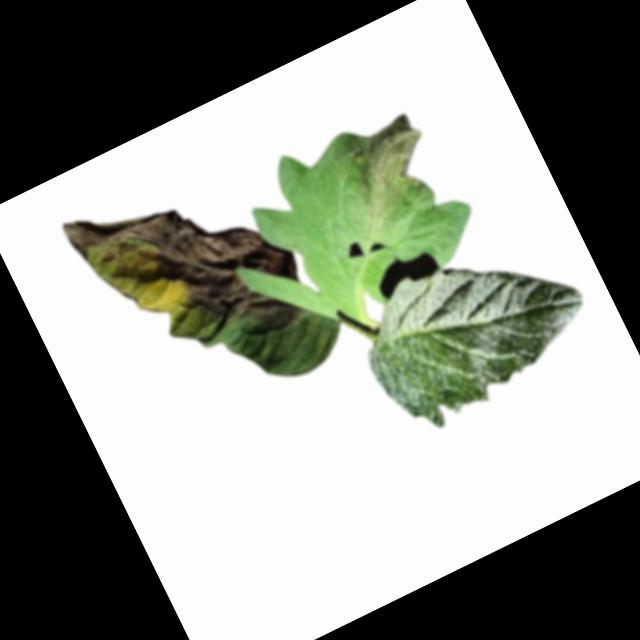Late_blight: (59, 137, 321, 397), (325, 106, 447, 224)
healthy: (339, 208, 609, 446)
